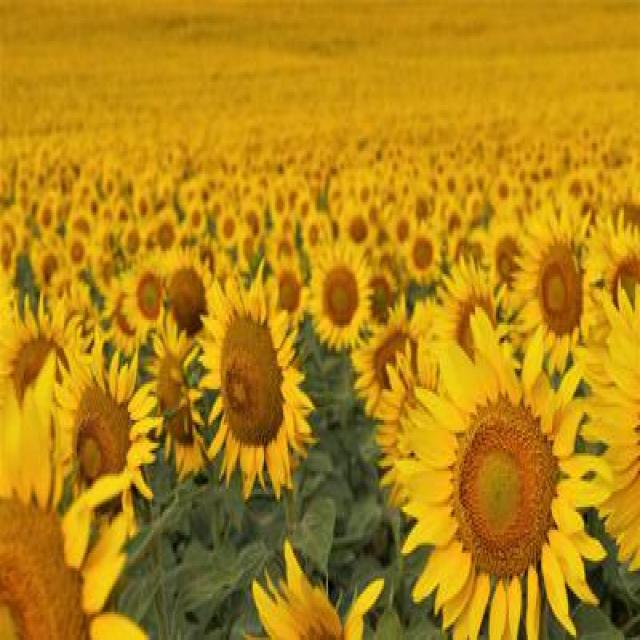sunflower: (393, 310, 610, 640), (183, 265, 314, 500), (53, 346, 174, 520), (510, 194, 620, 373), (303, 233, 380, 363), (118, 248, 168, 351), (403, 218, 443, 292), (210, 200, 242, 253), (59, 230, 91, 276), (29, 198, 62, 237), (130, 187, 156, 225)
